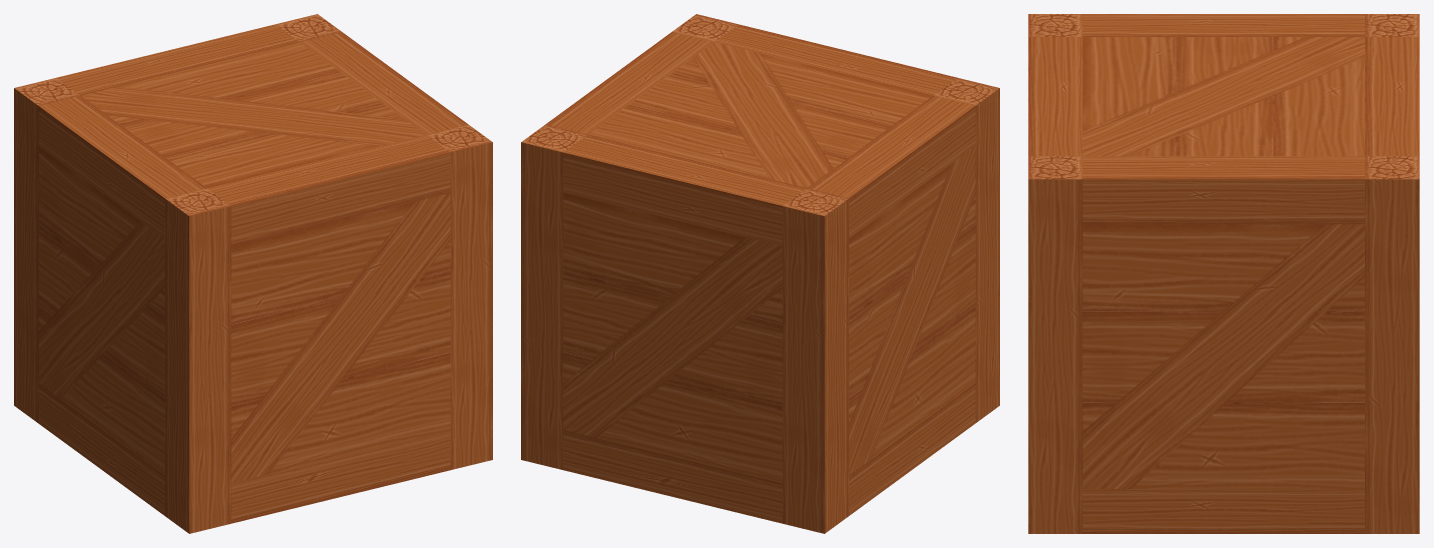
File: Crate.fbx
3 views of the same model, side by side, from view 1: azimuth 30°, elevation 25°; view 2: azimuth 150°, elevation 25°; view 3: azimuth 270°, elevation 25° (orthographic). The views are drawn at different scales.
Parts seen in each view (by area): view 1: Cube.016; view 2: Cube.016; view 3: Cube.016.
Boxes of the visible parts, box(x1,y1,x2,y2) form: Cube.016: box(14, 14, 492, 533); Cube.016: box(521, 14, 999, 533); Cube.016: box(1028, 14, 1419, 533).
Size of the model in its own units: 200 by 200 by 200.
